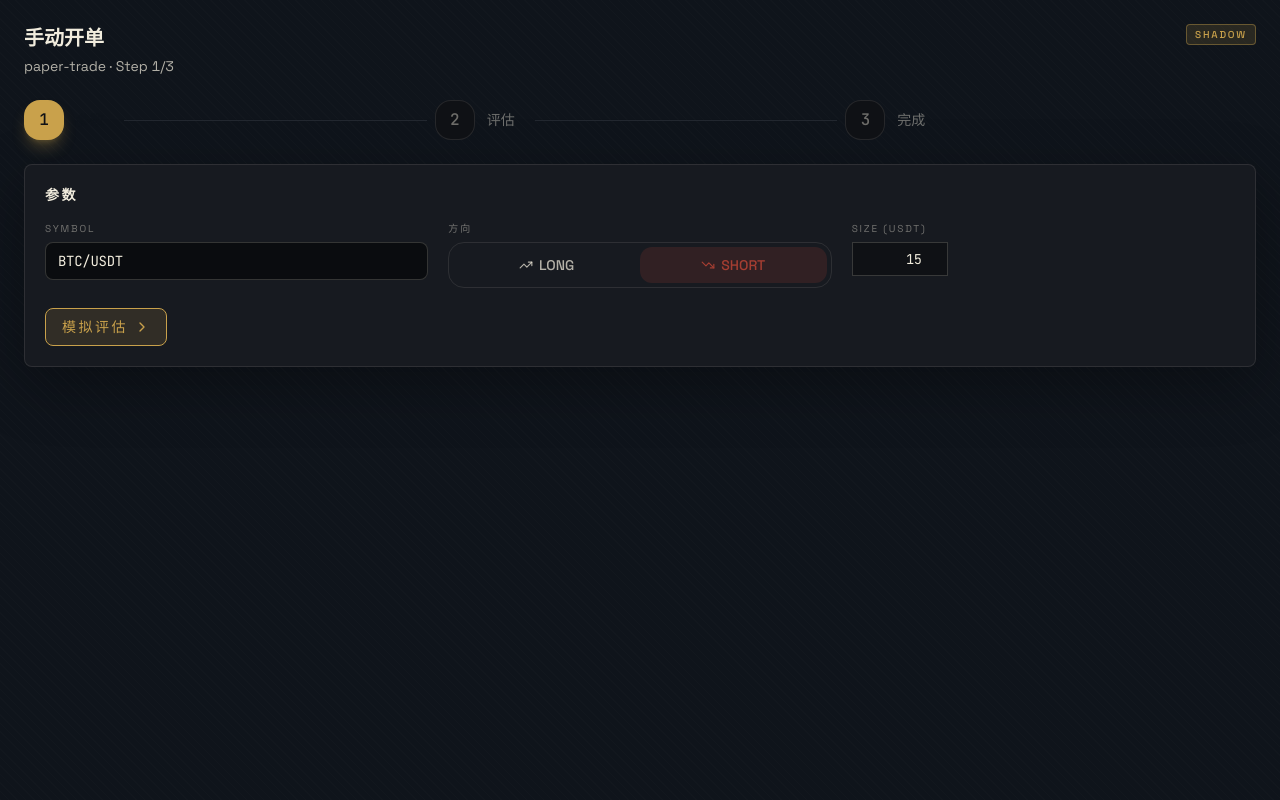
Test: V5ManualOrderPage › flows Step1 → Step2 on preview submit
Expected: the text "paper-trade · Step 1/3" is shown, top-left (24, 56), bottom-right (174, 76)
Click the button "模拟评估" at (106, 327), box top-left (45, 308), bottom-right (167, 346)
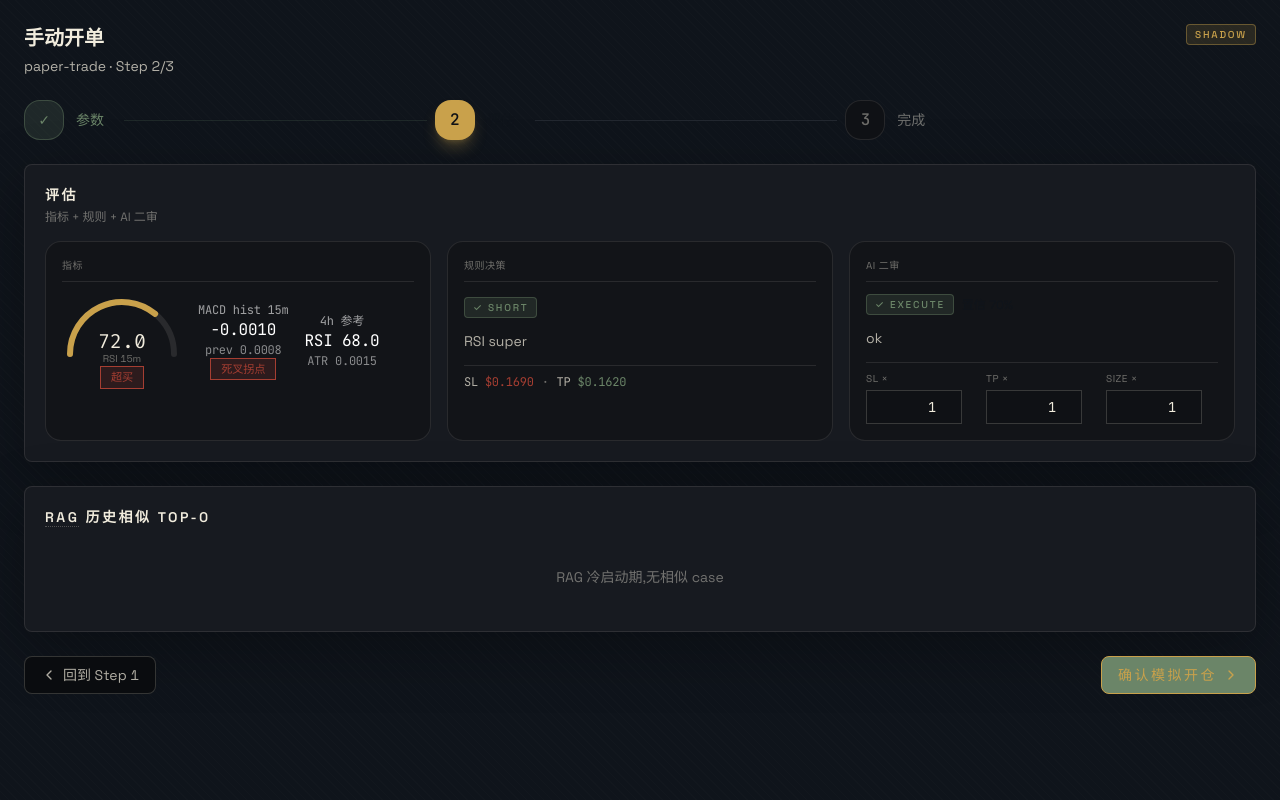
Expected: the text "paper-trade · Step 2/3" is shown, top-left (24, 56), bottom-right (174, 76)
